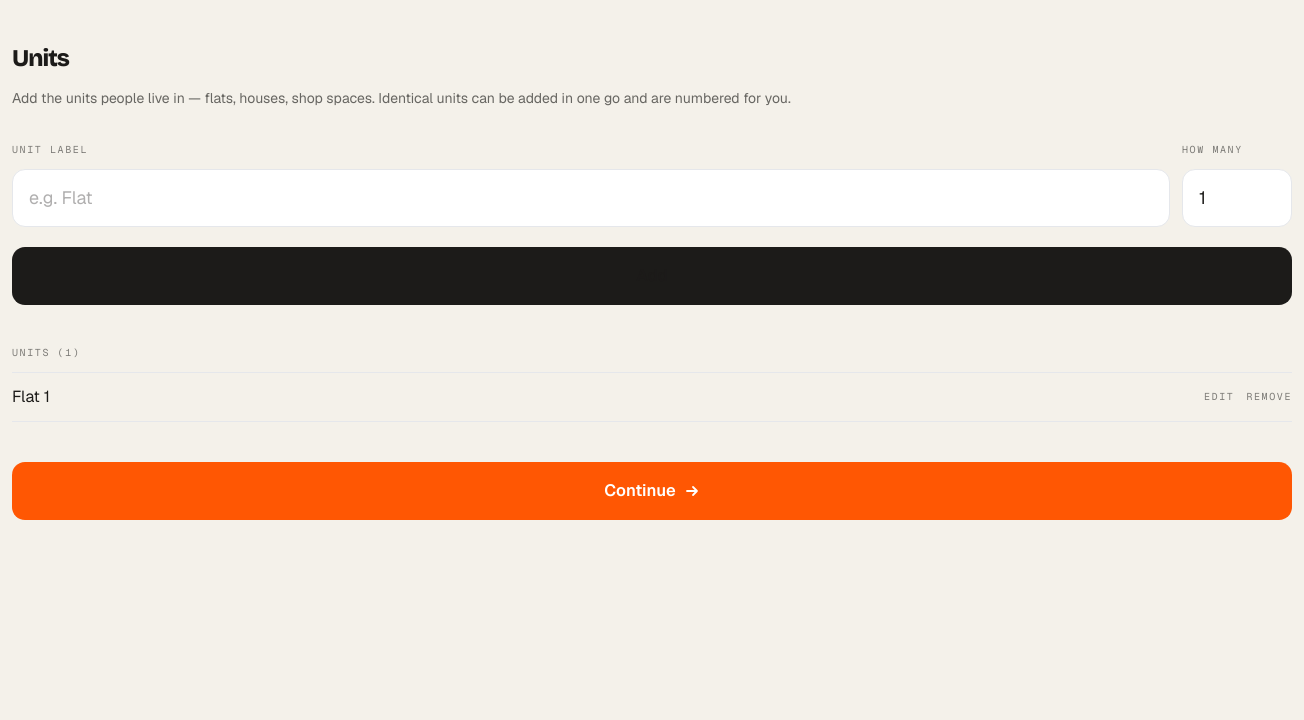
Test: CommunityUnitsStep › adds multiple units, continuing numbering past existing labels
This screenshot has width=1304, height=720.
Expected: the heading "Units (1)" is shown, [12,346,80,359]
Type "Flat" into the field labelled "Unit label" at (591, 198), box [12,169,1170,227]
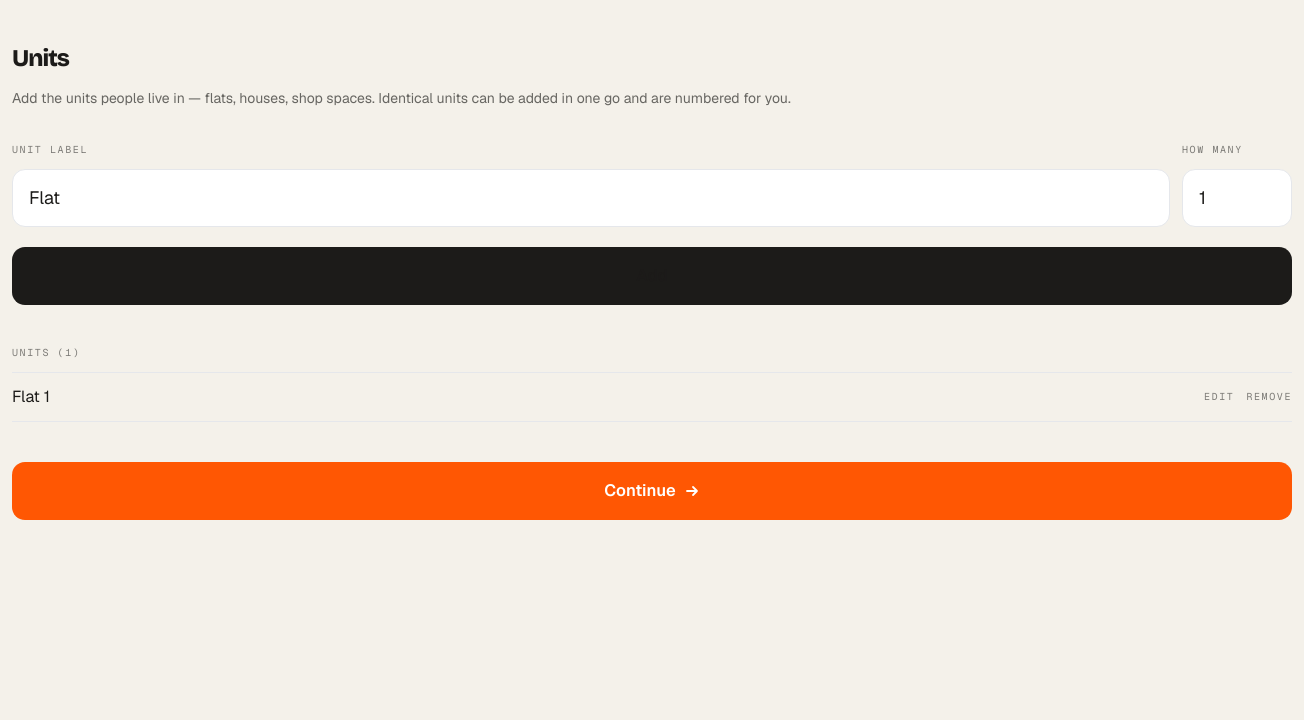
Replace the text in the number field labelled "How many" with "3" at (1237, 198), box [1182,169,1292,227]
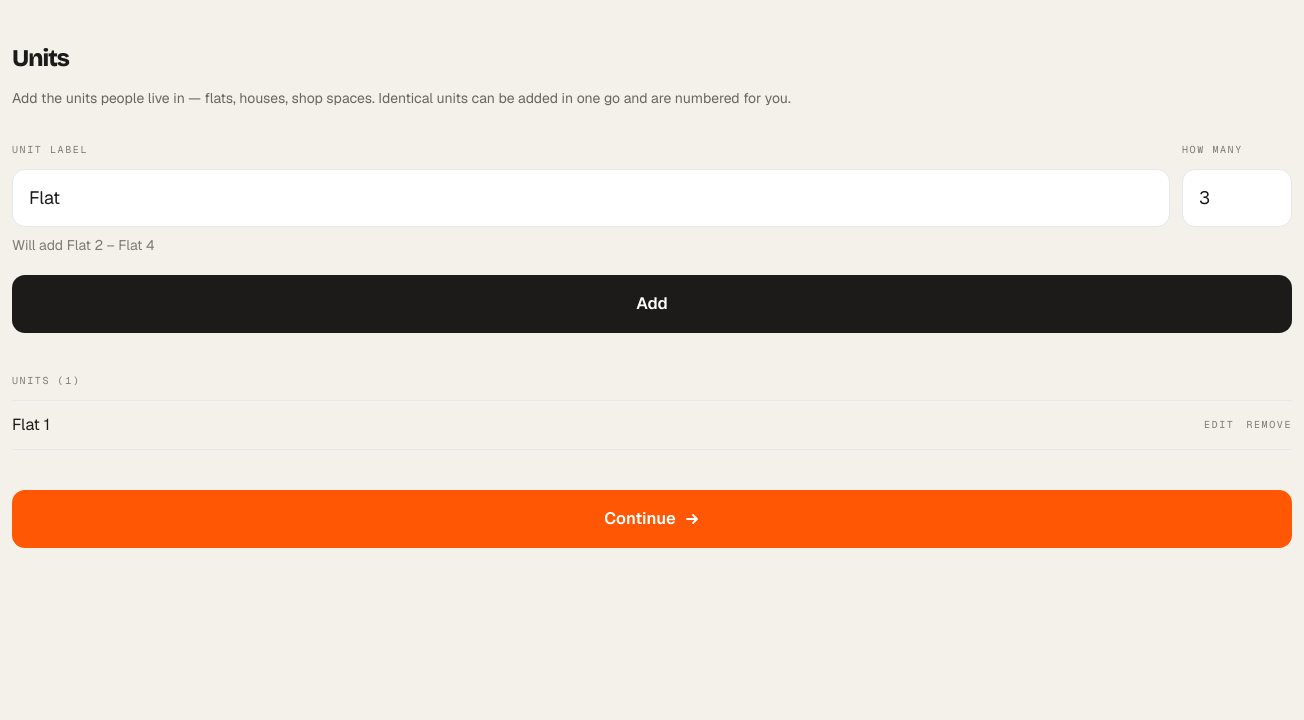
Expected: the button "Add" is enabled
Click the button "Add" at (652, 304), box [12,275,1292,333]
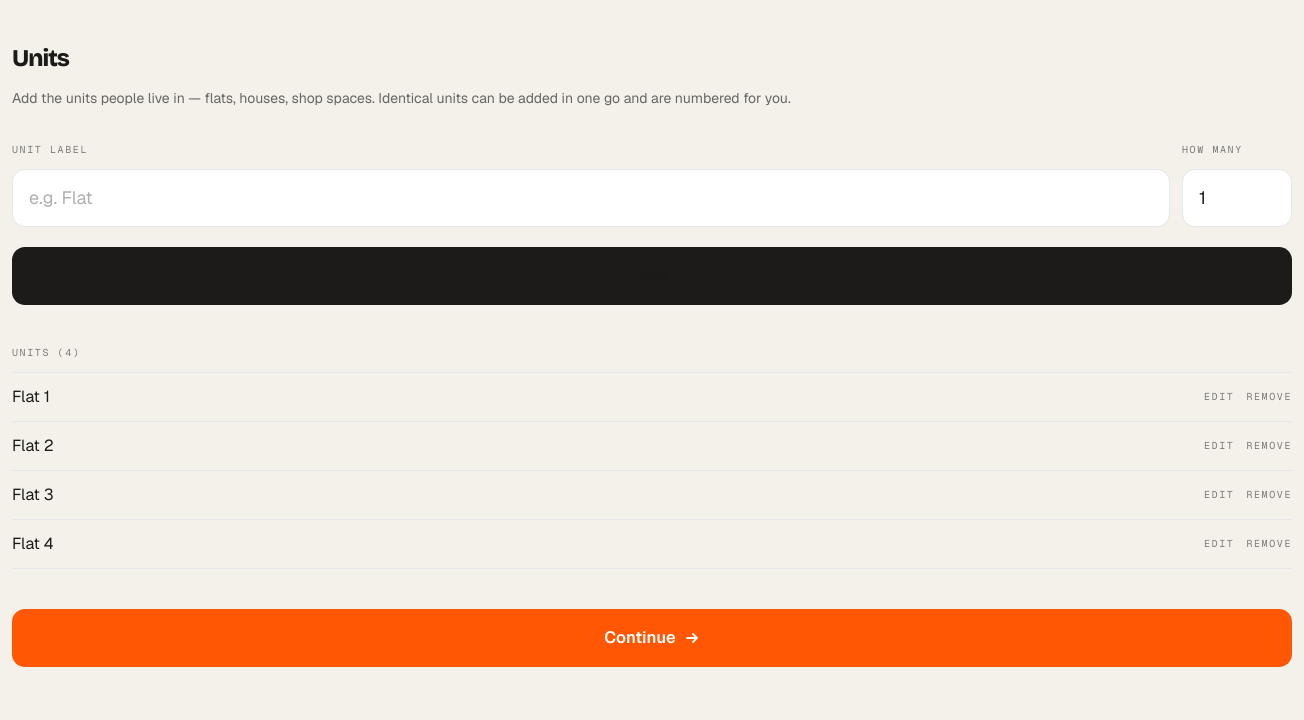
Expected: the text "Flat 2" is shown, [12,435,54,456]
Expected: the heading "Units (4)" is shown, [12,346,80,359]
Expected: the text "Flat 3" is shown, [12,484,54,505]
